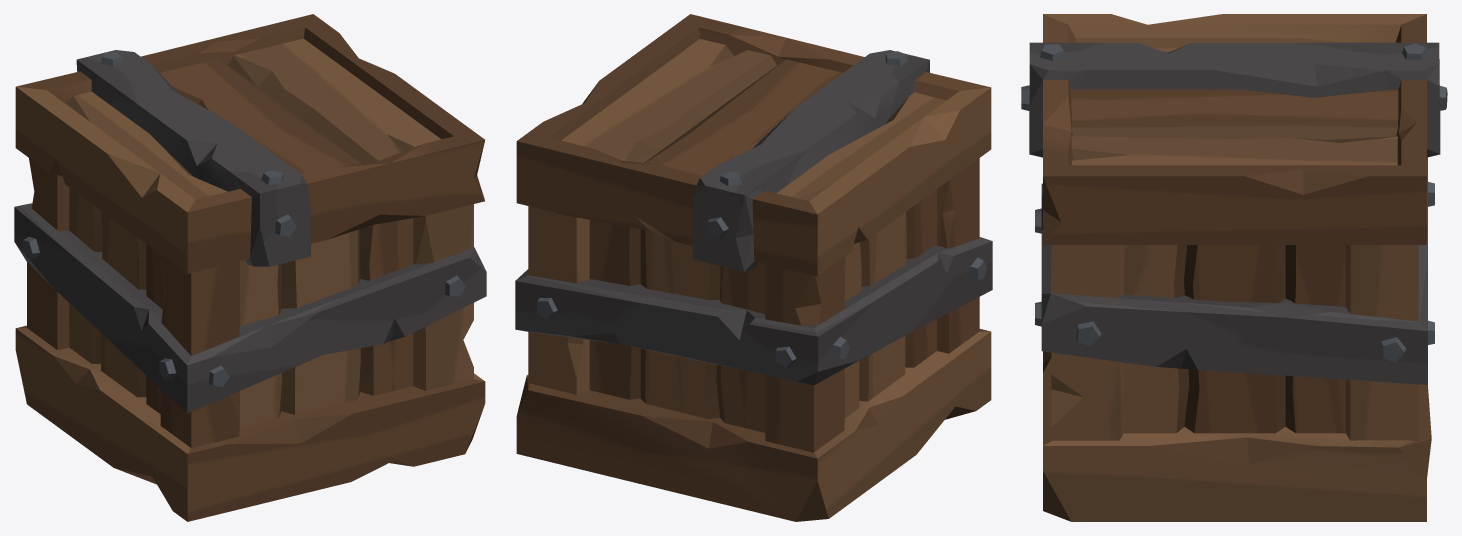
Rendered from goblin_crate.glb.
3 views of the same model, side by side, from view 1: azimuth 30°, elevation 25°; view 2: azimuth 150°, elevation 25°; view 3: azimuth 270°, elevation 25° (orthographic). The views are drawn at different scales.
Visible parts, largest first — view 1: SM_Prop_Crate_01; view 2: SM_Prop_Crate_01; view 3: SM_Prop_Crate_01.
Part boxes in pixels (left/top/right/bottom): SM_Prop_Crate_01: left=14, top=14, right=486, bottom=521; SM_Prop_Crate_01: left=515, top=14, right=992, bottom=521; SM_Prop_Crate_01: left=1021, top=14, right=1447, bottom=521.
Bounding box in the file's own units: 0.776 × 0.7663 × 0.82.
1 material, 1 textured.
